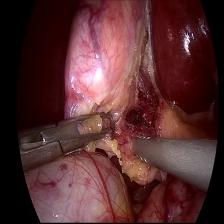Grasper: (21, 108, 117, 164)
Irrigator: (130, 128, 163, 169)
